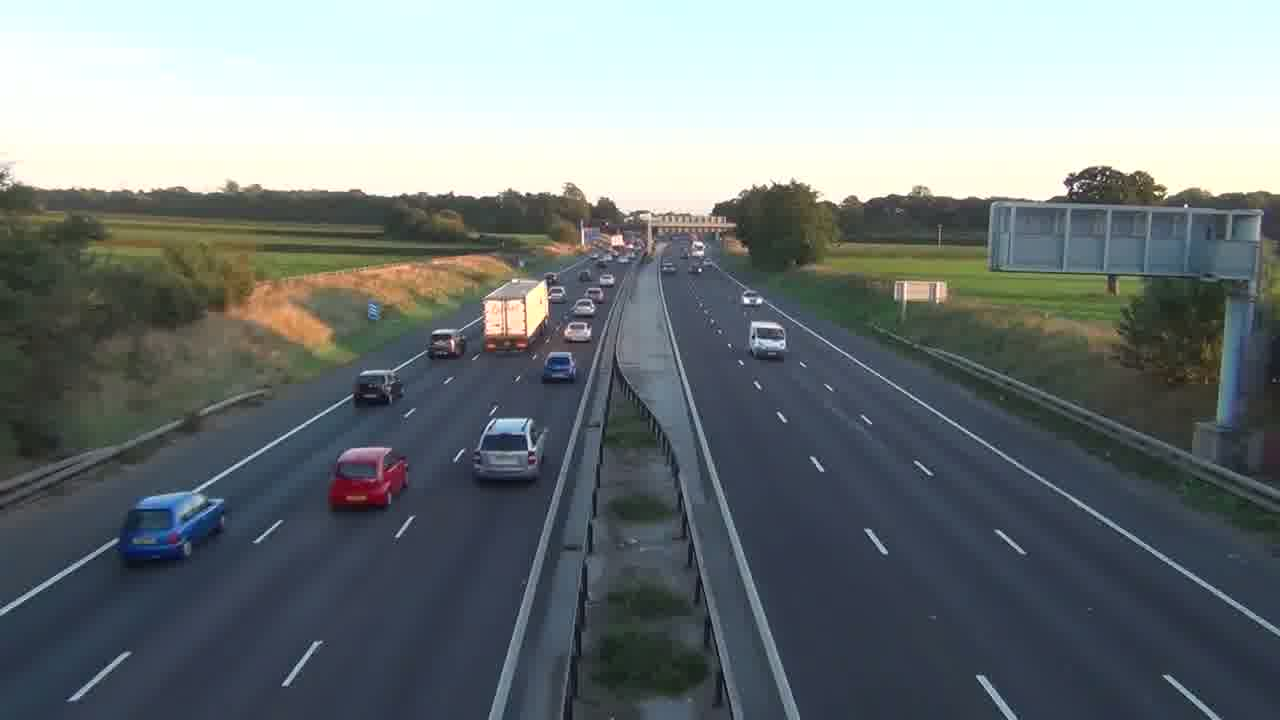car: (117, 491, 226, 566), (327, 446, 409, 511), (470, 416, 549, 483), (352, 368, 404, 406), (542, 351, 577, 383), (562, 319, 593, 342)
truck: (482, 279, 550, 353), (430, 312, 485, 359)
